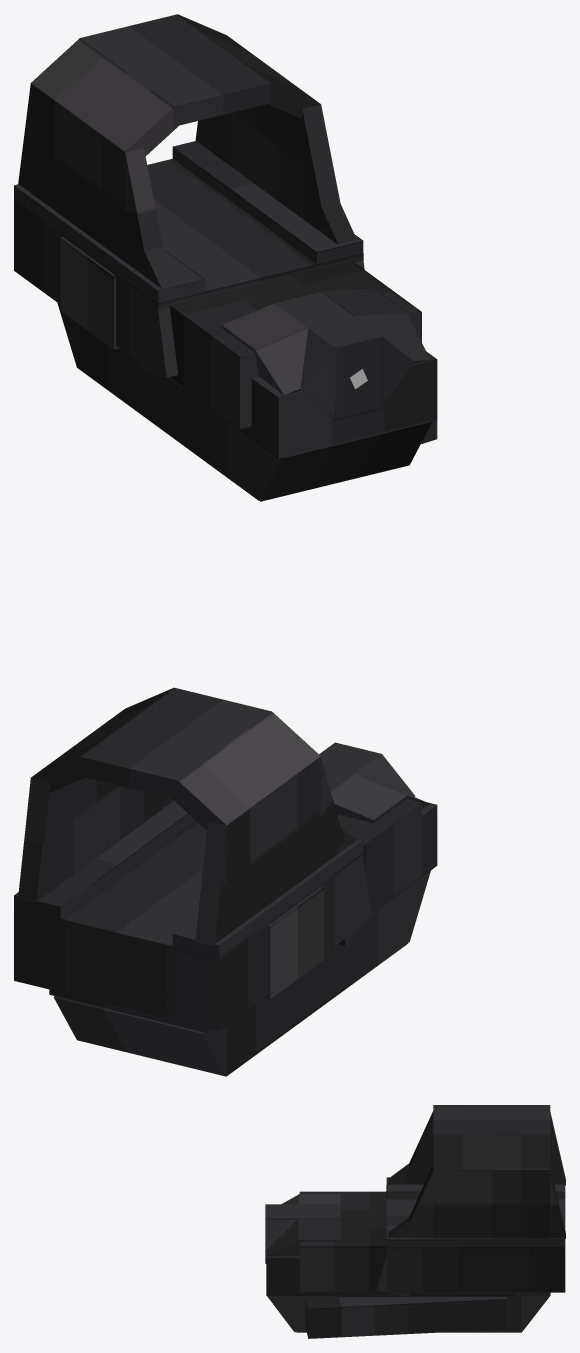
Rendered from operator reflex.obj.
3 renders of one model, top to bottom at view 1: azimuth 30°, elevation 25°; view 2: azimuth 150°, elevation 25°; view 3: azimuth 270°, elevation 25°, orthographic. The views are drawn at different scales.
Parts seen in each view (by area): view 1: gun_30; view 2: gun_30; view 3: gun_30.
Boxes of the visible parts, <box> form: gun_30: <box>14,14,437,501</box>; gun_30: <box>14,687,437,1076</box>; gun_30: <box>265,1105,565,1338</box>.
Bounding box in the file's own units: 0.2925 × 0.3923 × 1.03.
